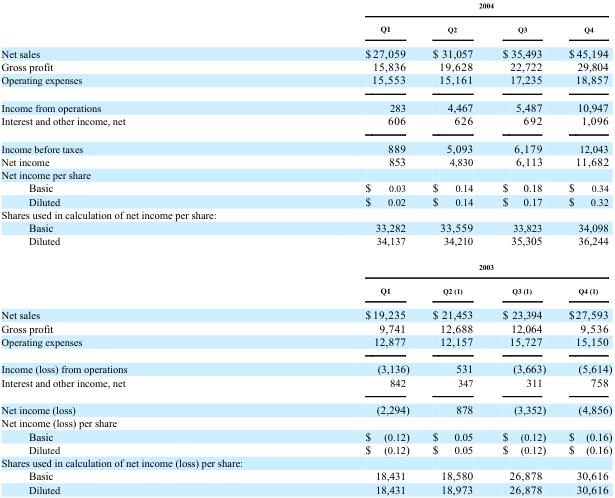table: (0, 0, 611, 495)
table column: (0, 0, 245, 495), (245, 0, 420, 495), (487, 0, 556, 495), (420, 0, 487, 495), (556, 0, 611, 495)
table column header: (0, 0, 611, 39)
table projected row header: (0, 207, 611, 220), (0, 416, 611, 429), (0, 455, 611, 468), (0, 168, 611, 180)
table row: (0, 254, 611, 278), (0, 16, 611, 39), (0, 278, 611, 301), (0, 72, 611, 93), (0, 113, 611, 134), (0, 233, 611, 254), (0, 354, 611, 375), (0, 395, 611, 416), (0, 39, 611, 59), (0, 93, 611, 113), (0, 134, 611, 154), (0, 301, 611, 321), (0, 334, 611, 354), (0, 375, 611, 395), (0, 0, 611, 16), (0, 154, 611, 168), (0, 180, 611, 194), (0, 468, 611, 482), (0, 59, 611, 72), (0, 194, 611, 207), (0, 207, 611, 220), (0, 220, 611, 233), (0, 321, 611, 334), (0, 416, 611, 429), (0, 429, 611, 442), (0, 442, 611, 455), (0, 455, 611, 468), (0, 482, 611, 495), (0, 168, 611, 180)
table spanning cell: (245, 254, 611, 278), (245, 0, 611, 16)
